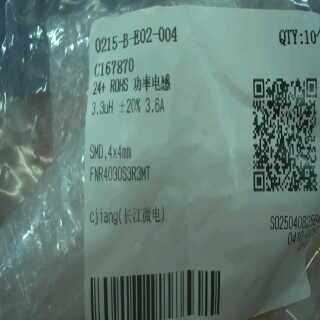3.3uH: (91, 95, 113, 119)
